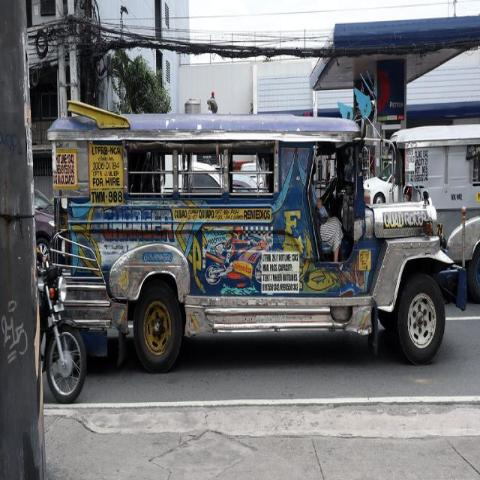jeepney: (39, 99, 466, 363)
